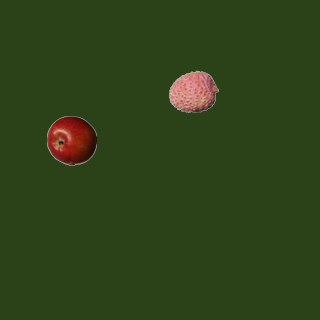Apple Braeburn: (46, 115, 96, 165)
Lychee: (168, 66, 218, 116)
